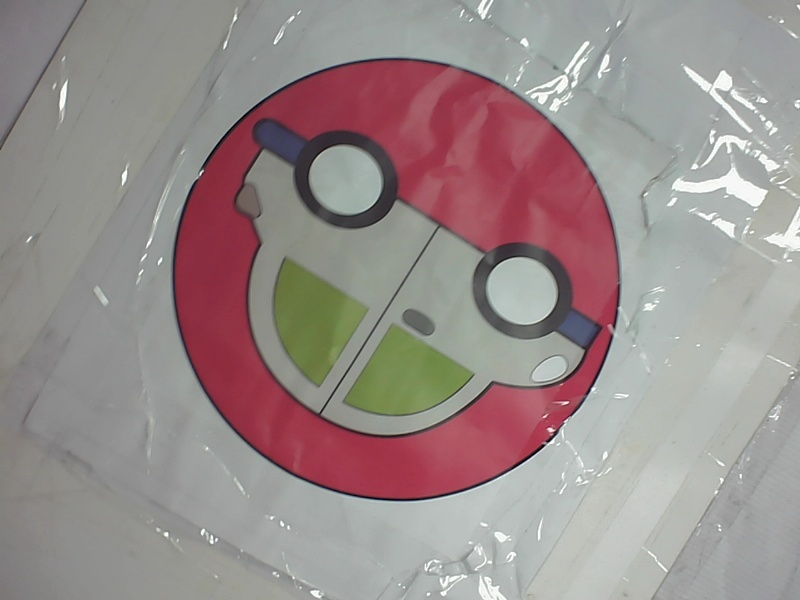areaC: (175, 42, 631, 504)
